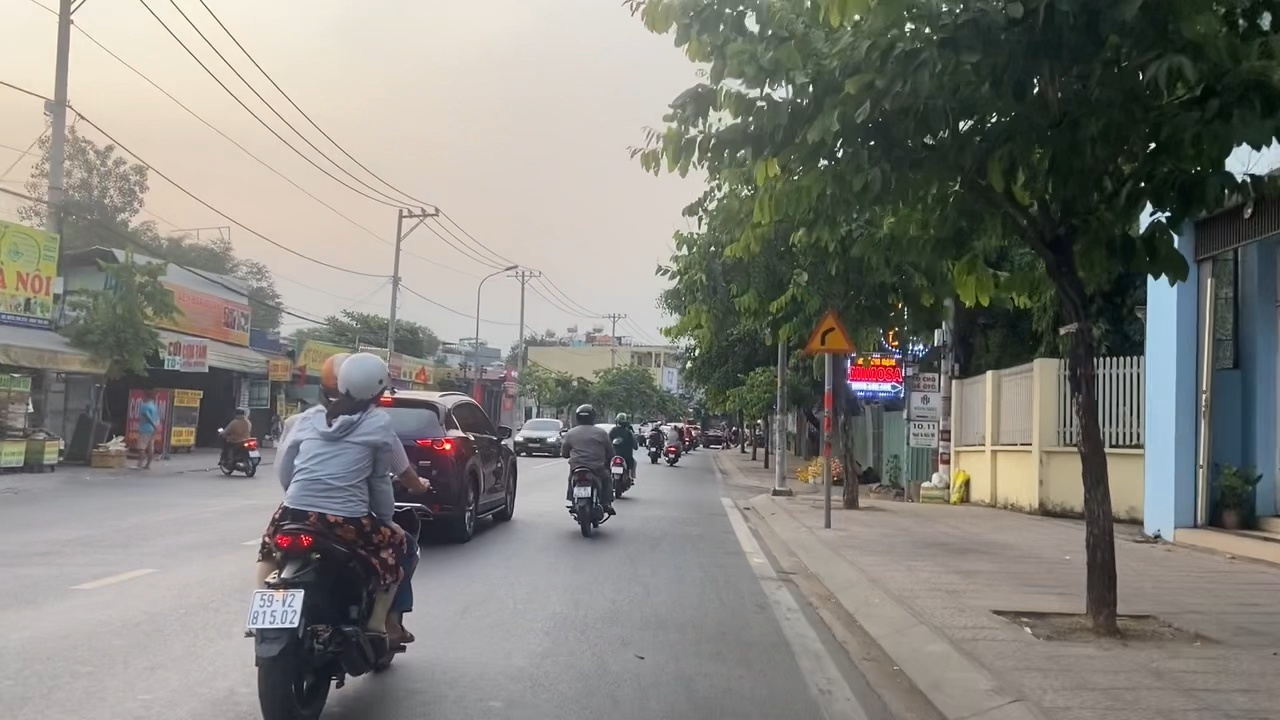duong_nghieng_phai: (799, 309, 858, 356)
